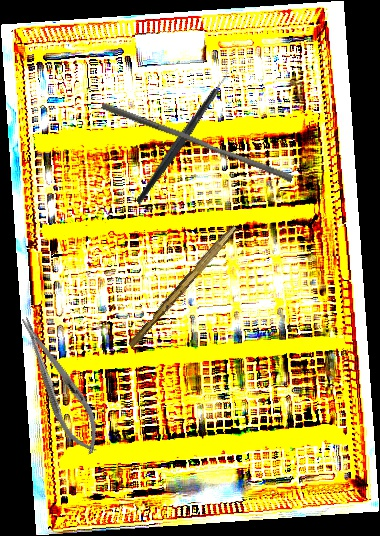Chopper: (99, 60, 265, 207)
Needle Holder: (9, 309, 110, 461)
Pusher: (98, 102, 296, 183)
Scalpel Handle: (126, 221, 239, 351)
